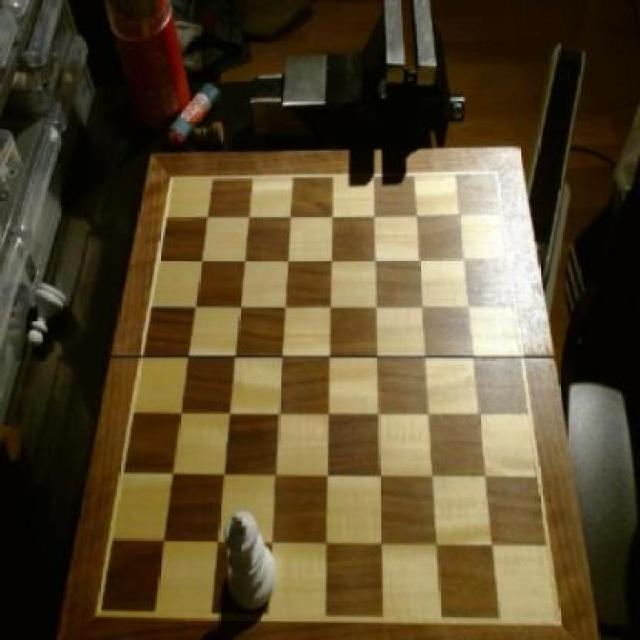white-bishop: (221, 506, 277, 605)
